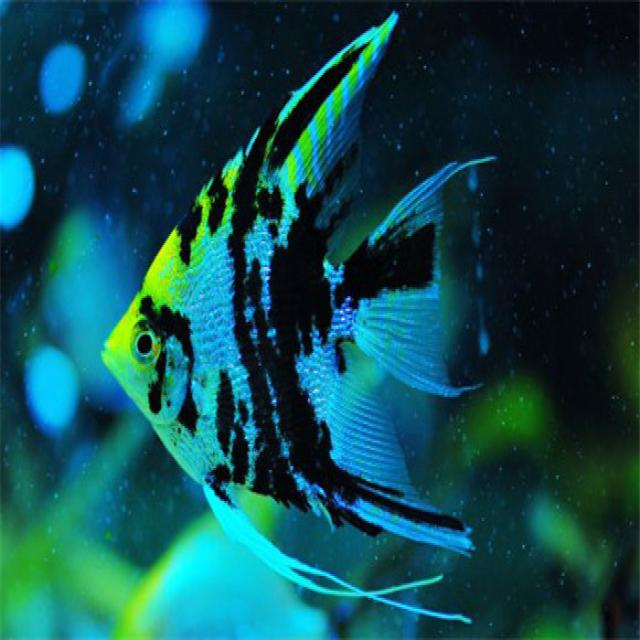AngelFish: (100, 16, 473, 624)
